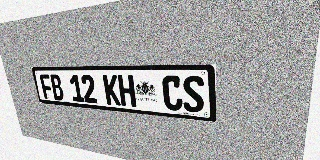1: (68, 74, 85, 102)
2: (80, 75, 97, 103)
B: (49, 74, 65, 100)
C: (162, 75, 183, 111)
F: (39, 74, 54, 99)
H: (117, 75, 136, 107)
K: (102, 75, 121, 106)
S: (182, 76, 204, 113)
